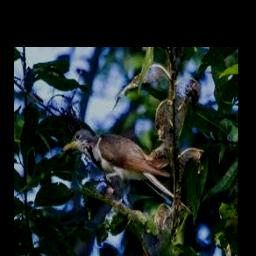Cuckoo: (64, 129, 195, 217)
